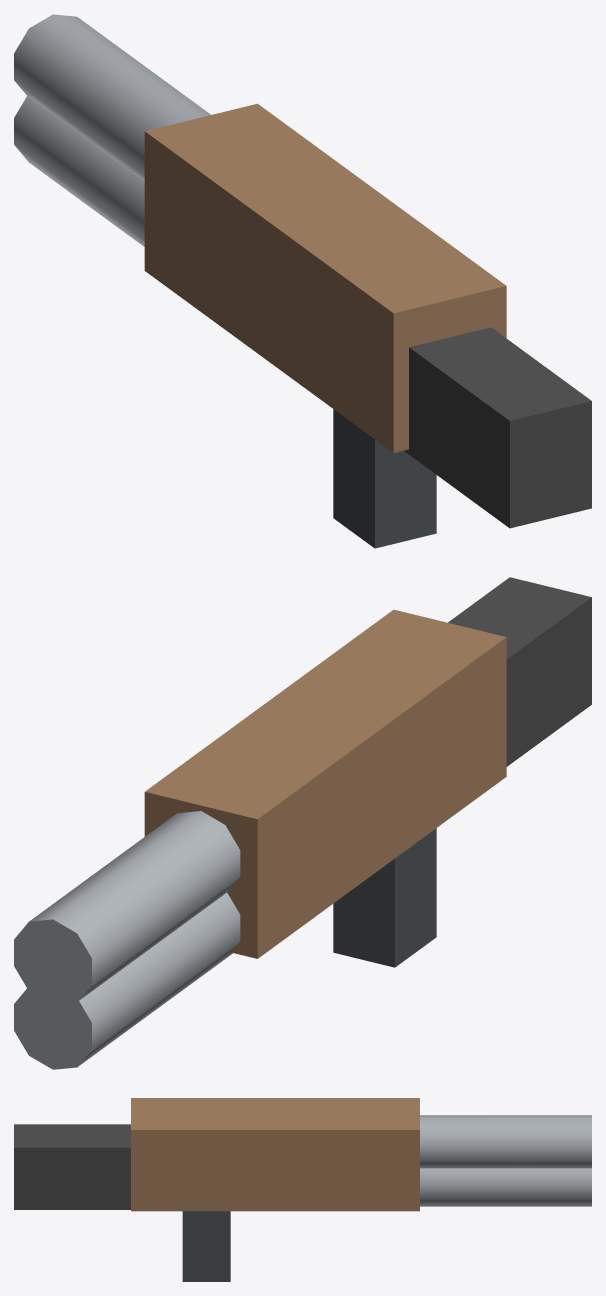
Rendered from scatter_cannon.glb.
The picture shows the model from 3 angles, top to bottom: view 1: azimuth 30°, elevation 25°; view 2: azimuth 150°, elevation 25°; view 3: azimuth 270°, elevation 25°; orthographic projection. The views are drawn at different scales.
Parts seen in each view (by area): view 1: Body, Stock, Barrel, Grip, BarrelB; view 2: Body, Barrel, BarrelB, Stock, Grip; view 3: Body, Stock, Barrel, BarrelB, Grip.
Part boxes in pixels (<box>): Body: <box>144,103,506,452</box>; Stock: <box>404,327,591,528</box>; Barrel: <box>14,14,210,181</box>; Grip: <box>333,409,436,548</box>; BarrelB: <box>14,96,144,246</box>; Body: <box>144,609,506,958</box>; Barrel: <box>14,811,240,1005</box>; BarrelB: <box>14,893,240,1069</box>; Stock: <box>448,577,591,766</box>; Grip: <box>333,828,436,967</box>; Body: <box>131,1098,419,1211</box>; Stock: <box>14,1124,130,1209</box>; Barrel: <box>420,1115,591,1168</box>; BarrelB: <box>420,1168,591,1206</box>; Grip: <box>182,1211,230,1281</box>.
Bounding box in the file's own units: 0.11 × 0.255 × 0.84.
